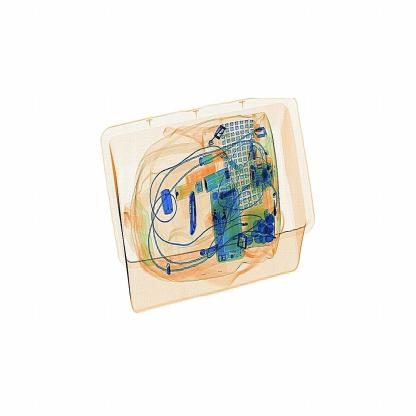knife: (176, 182, 209, 255)
